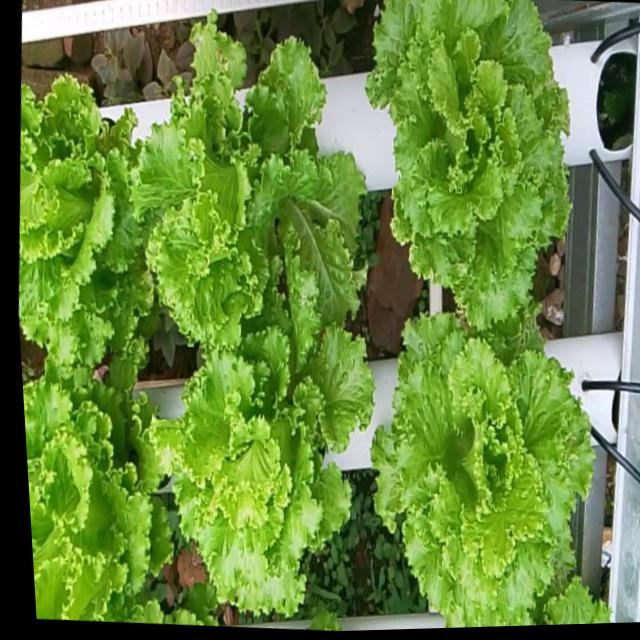Mature: (130, 20, 364, 352), (369, 317, 609, 628), (146, 300, 372, 623), (364, 0, 569, 336), (18, 80, 150, 375), (23, 363, 170, 622)
